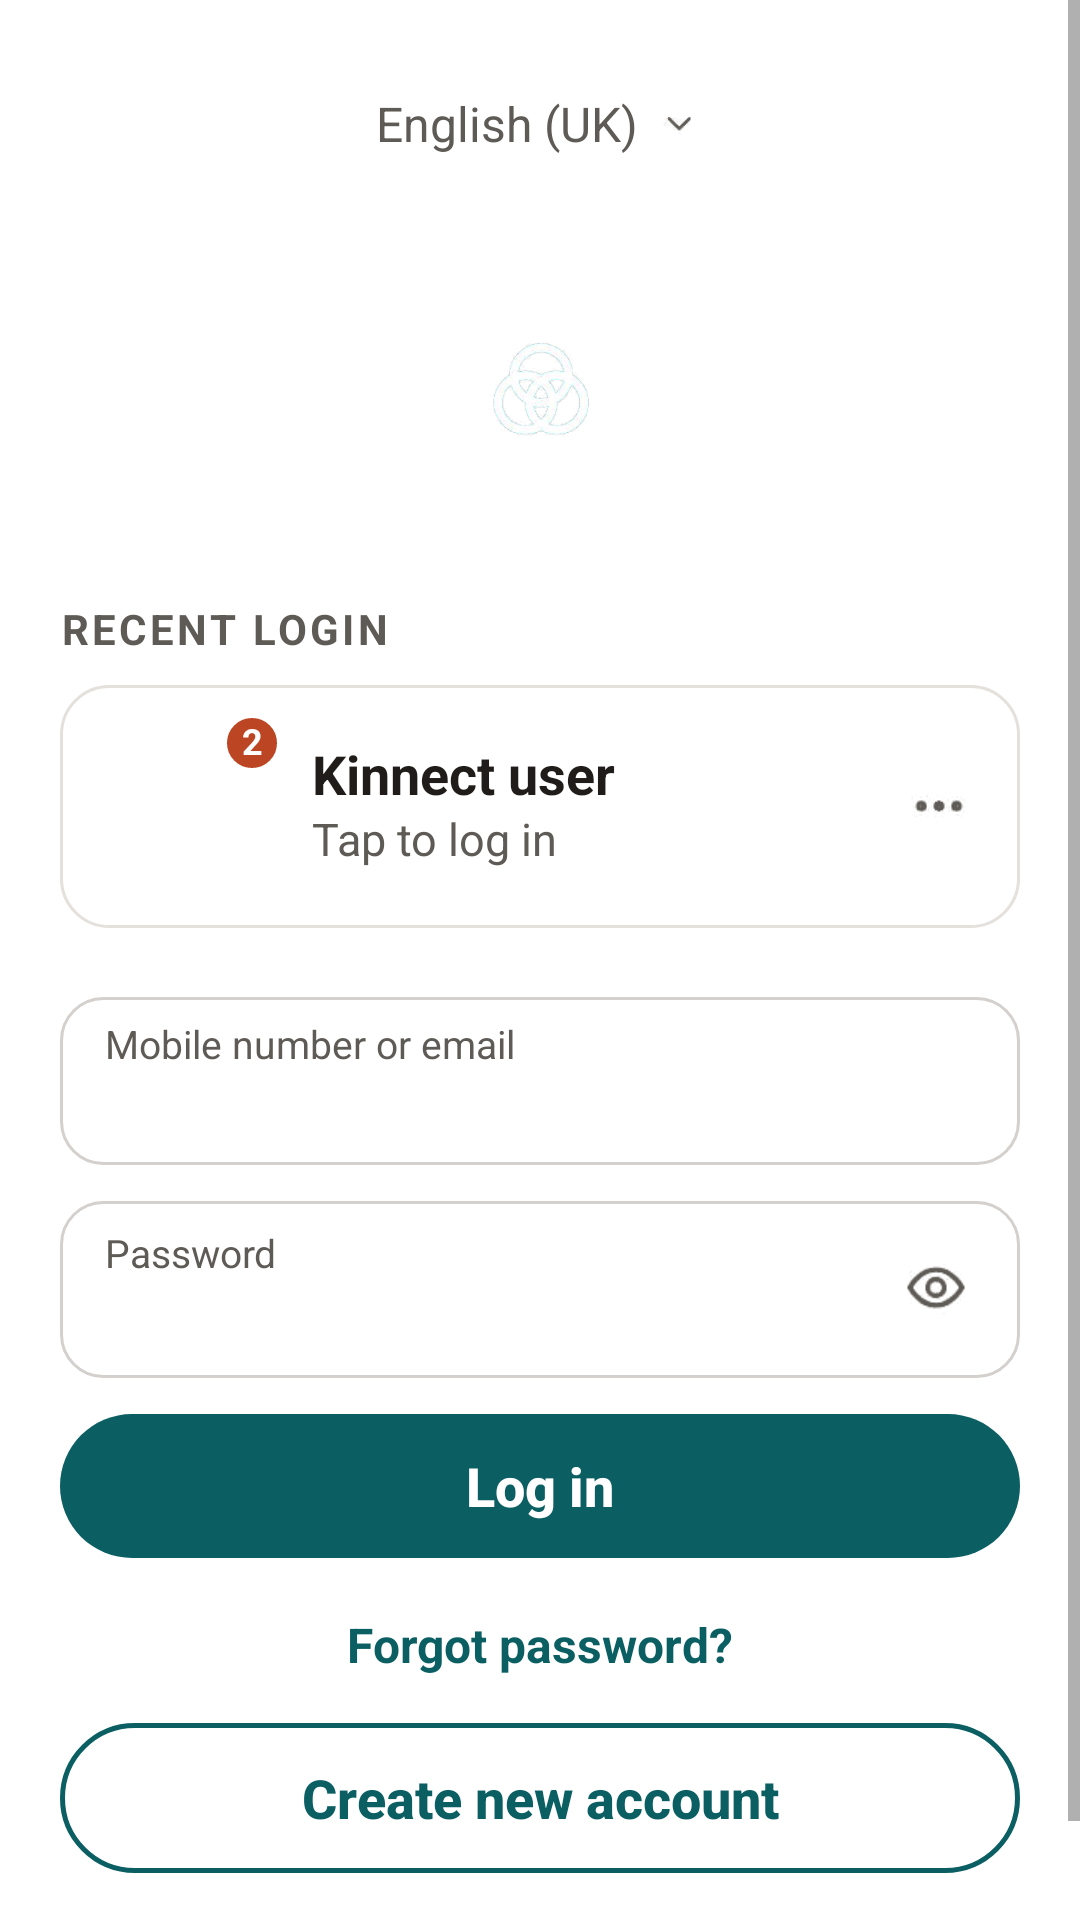

Screen size 1080*1920. Icon name, then its box in pixels as (x1, y1, x2, y2):
chevron down: (667, 117, 691, 131)
more: (915, 800, 963, 812)
Show password: (907, 1266, 965, 1309)
